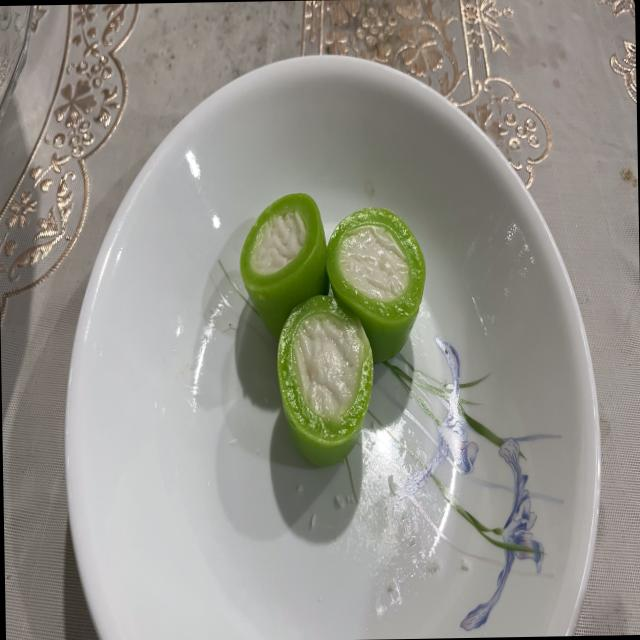nona-manis: (277, 295, 372, 467), (326, 208, 425, 361), (240, 194, 328, 336)
